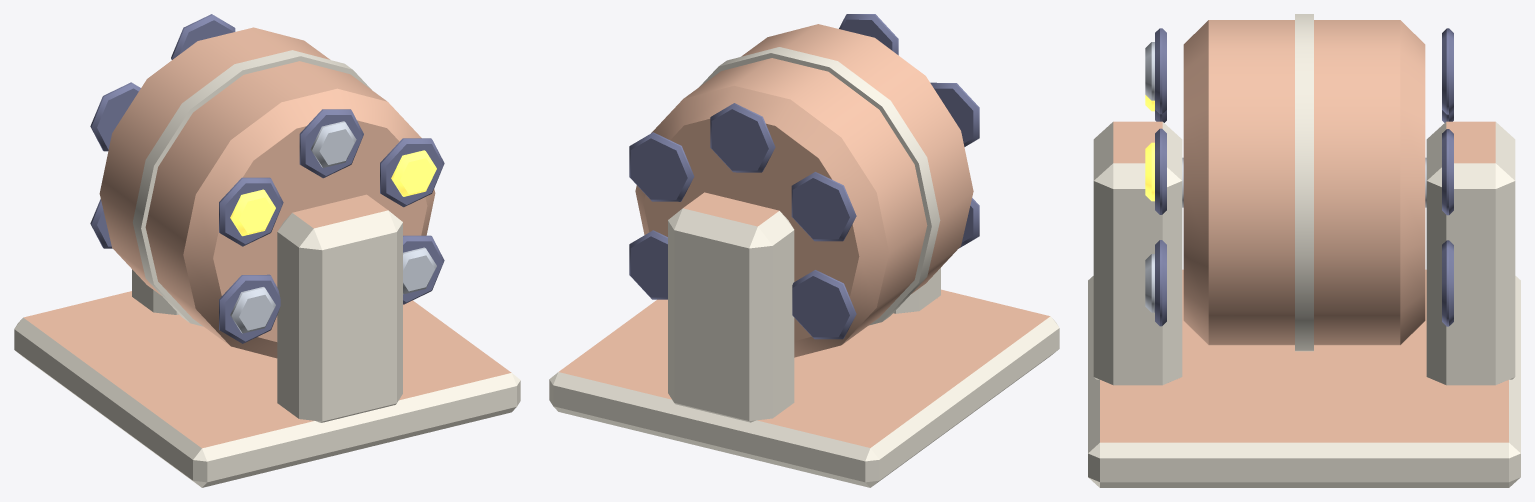
Rendered from R4X_ReloadBooster_LOD1.fbx.
3 views of the same model, side by side, from view 1: azimuth 30°, elevation 25°; view 2: azimuth 150°, elevation 25°; view 3: azimuth 270°, elevation 25° (orthographic). The views are drawn at different scales.
Parts seen in each view (by area): view 1: R4X_ReloadBooster_LOD1; view 2: R4X_ReloadBooster_LOD1; view 3: R4X_ReloadBooster_LOD1.
Part boxes in pixels (x1,y1,x2,y2): R4X_ReloadBooster_LOD1: (14, 14, 520, 487); R4X_ReloadBooster_LOD1: (549, 14, 1059, 487); R4X_ReloadBooster_LOD1: (1088, 14, 1520, 487).
Bounding box in the file's own units: 0.52 × 0.4921 × 0.52.
